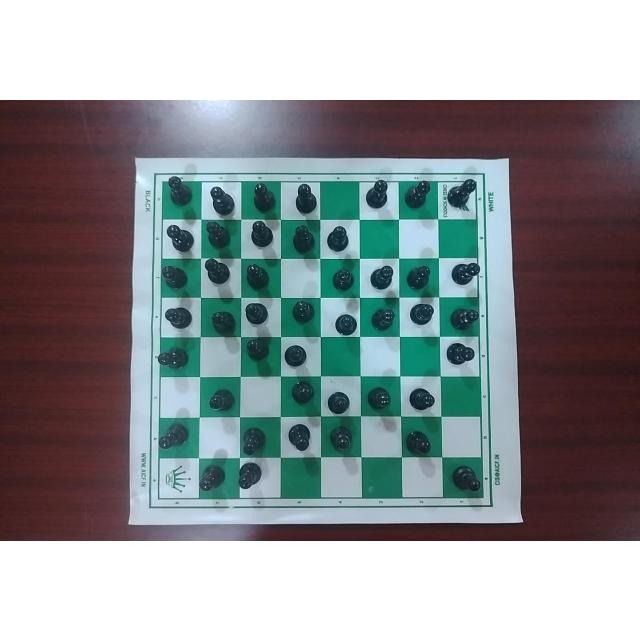black-pawn: (159, 420, 191, 456), (283, 421, 315, 457), (444, 176, 477, 210), (205, 183, 237, 216), (205, 384, 238, 416), (162, 174, 193, 208), (405, 382, 439, 413), (401, 177, 431, 212), (164, 222, 196, 254), (200, 256, 232, 288), (239, 426, 271, 458), (285, 220, 316, 253), (402, 425, 435, 456), (449, 462, 482, 493), (246, 218, 276, 252), (450, 263, 484, 293), (156, 346, 192, 374), (287, 184, 319, 215), (287, 380, 318, 412), (326, 425, 358, 456), (204, 306, 237, 335), (248, 180, 276, 214), (446, 306, 482, 332), (158, 261, 189, 291), (325, 385, 355, 416), (281, 342, 314, 370), (199, 462, 227, 495), (329, 264, 359, 294), (367, 306, 397, 336), (405, 300, 436, 329), (160, 305, 192, 333), (364, 385, 396, 413), (365, 261, 395, 290), (403, 261, 433, 290), (365, 181, 392, 213), (442, 341, 478, 365), (324, 222, 349, 256), (237, 460, 265, 490), (243, 260, 271, 289), (204, 221, 232, 249), (244, 337, 272, 364), (291, 297, 317, 325), (242, 301, 269, 327), (331, 311, 358, 335)
